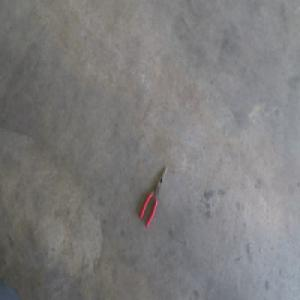Pliers: (138, 166, 167, 227)
